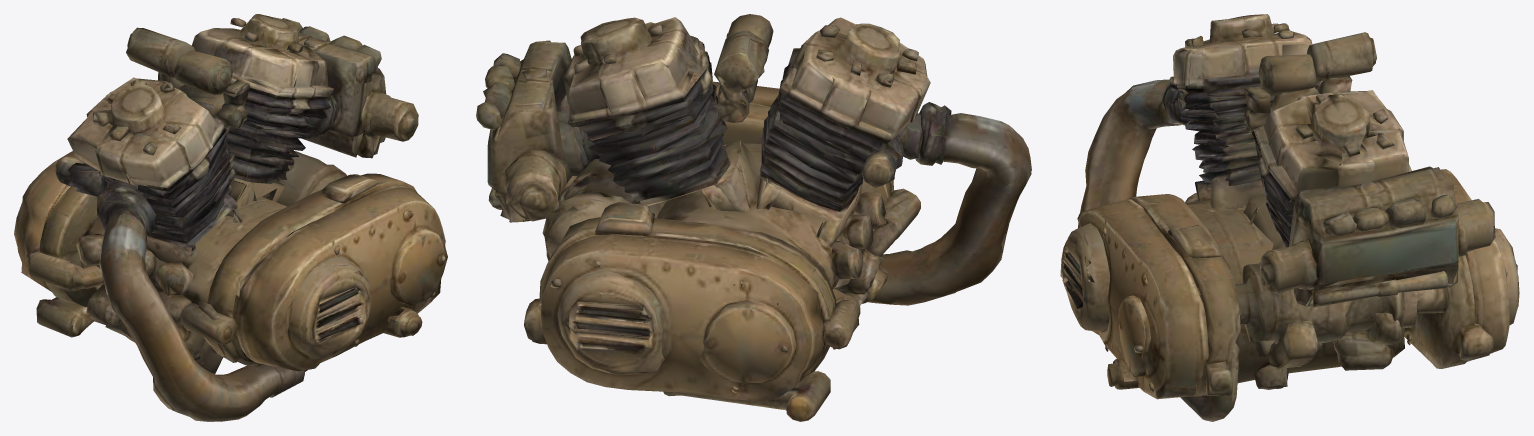
File: vehicle_part_engine.glb
The picture shows the model from 3 angles, left to right: view 1: azimuth 30°, elevation 25°; view 2: azimuth 150°, elevation 25°; view 3: azimuth 270°, elevation 25°; orthographic projection. The views are drawn at different scales.
Bounding box in the file's own units: 0.2295 × 0.1719 × 0.2251.
Materials: 1 (1 with a texture image).
